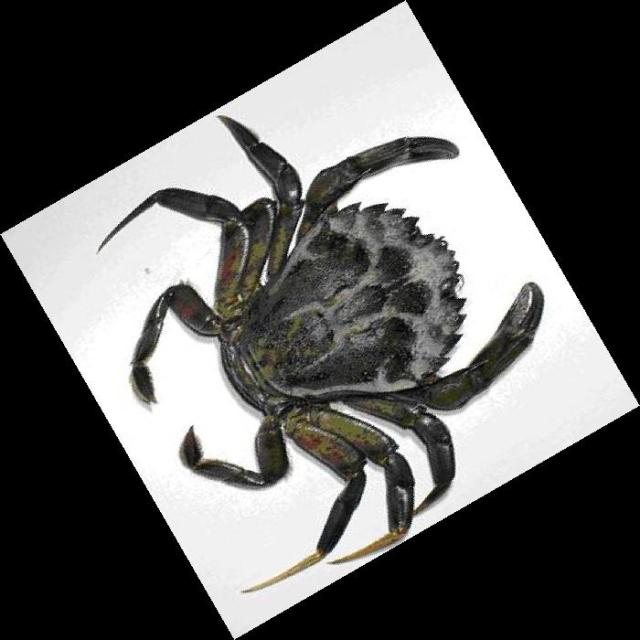European Green crab: (98, 115, 543, 592)
